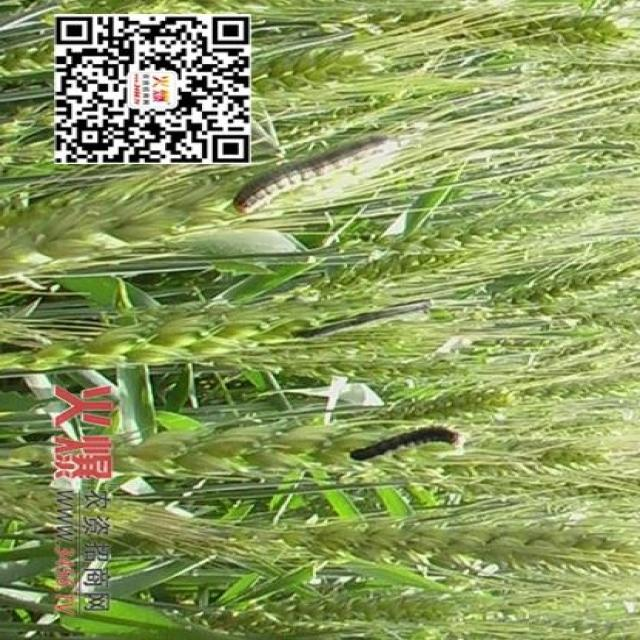army worm: (227, 134, 401, 226), (292, 296, 435, 348), (343, 424, 465, 474)
